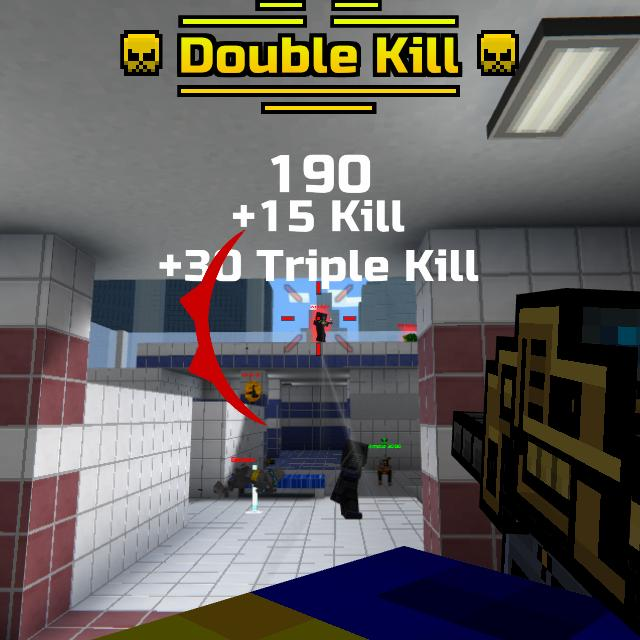Enemy: (313, 311, 330, 342), (403, 330, 418, 343)
